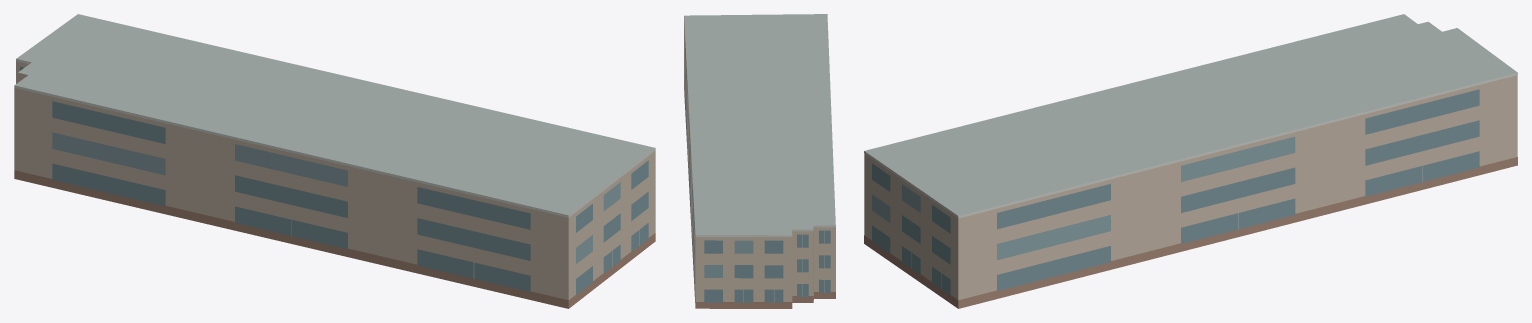
File: survey-upis-33038293.glb
The picture shows the model from 3 angles, left to right: view 1: azimuth 30°, elevation 25°; view 2: azimuth 150°, elevation 25°; view 3: azimuth 270°, elevation 25°; orthographic projection. The views are drawn at different scales.
Visible parts, largest first — view 1: survey-upis-33038293.tmp; view 2: survey-upis-33038293.tmp; view 3: survey-upis-33038293.tmp.
Boxes of the visible parts, <box> form: survey-upis-33038293.tmp: <box>14,14,655,308</box>; survey-upis-33038293.tmp: <box>684,14,835,308</box>; survey-upis-33038293.tmp: <box>864,14,1517,308</box>.
Size of the model in its own units: 42.67 by 9.15 by 58.35.
